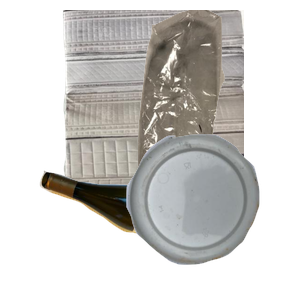glass: (37, 168, 242, 300)
paper: (60, 10, 300, 190)
plastic: (124, 132, 300, 300)
trash: (114, 10, 300, 190)
